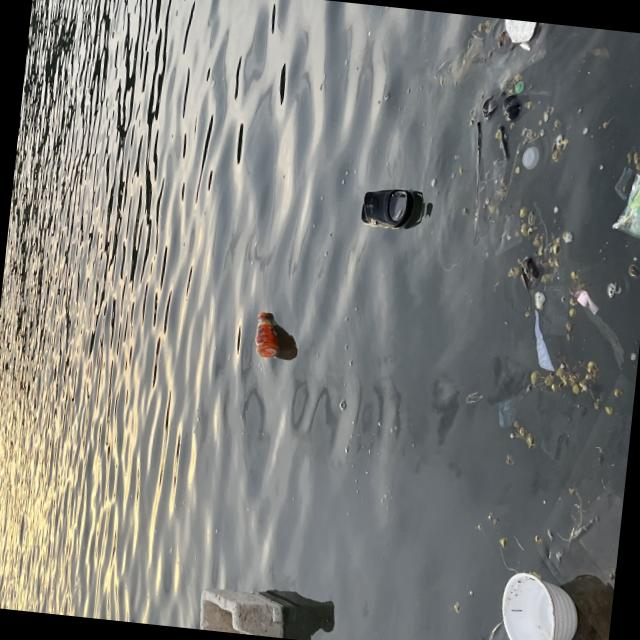foam: (495, 571, 582, 640), (195, 584, 283, 638), (501, 18, 538, 44)
plastic: (254, 309, 282, 359)
plastic bottle: (528, 364, 636, 635), (492, 374, 592, 467), (470, 155, 531, 258), (568, 286, 634, 366), (611, 171, 640, 245), (528, 310, 560, 369), (468, 623, 511, 640), (614, 166, 632, 200), (520, 142, 539, 170)
unknow: (359, 184, 415, 229), (448, 30, 486, 88)
